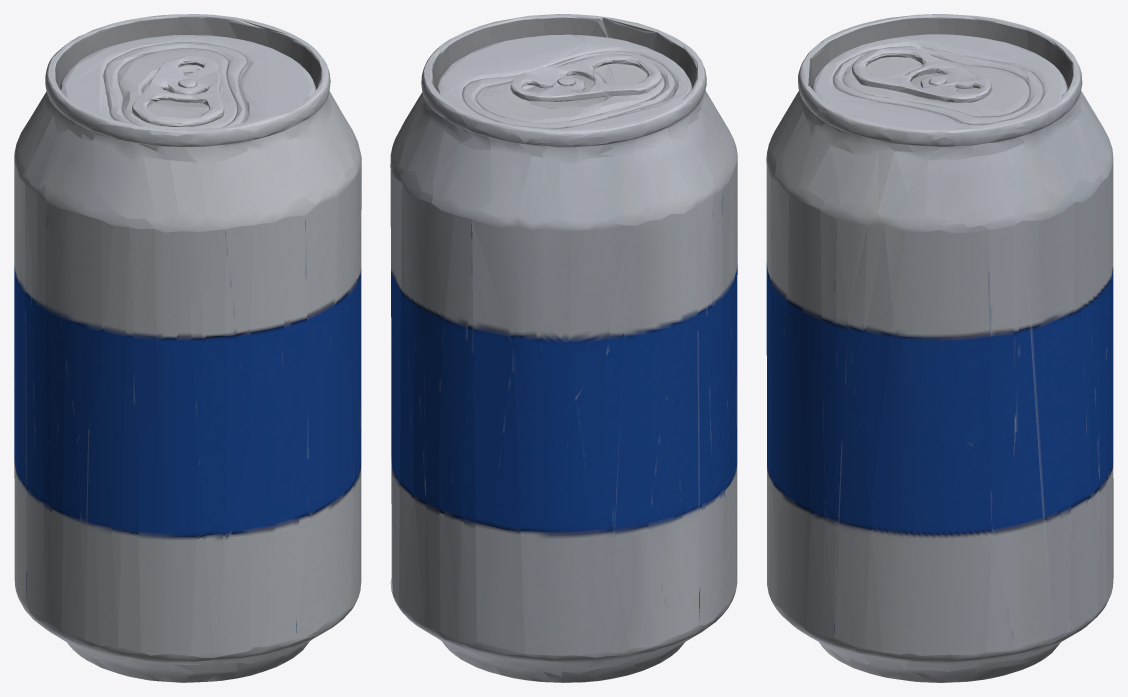
The model's file is statiegeld_can_0.glb.
The picture shows the model from 3 angles, left to right: view 1: azimuth 30°, elevation 25°; view 2: azimuth 150°, elevation 25°; view 3: azimuth 270°, elevation 25°; orthographic projection.
Bounding box in the file's own units: 1.07 × 1.9 × 1.07.
1 material, 1 textured.
